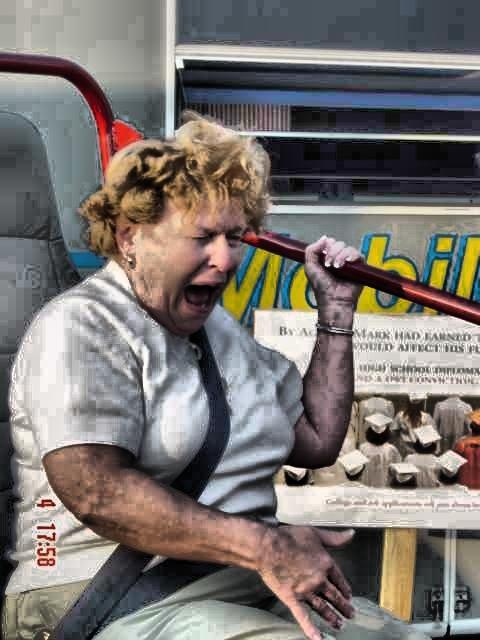seatbelt: (78, 282, 309, 614)
